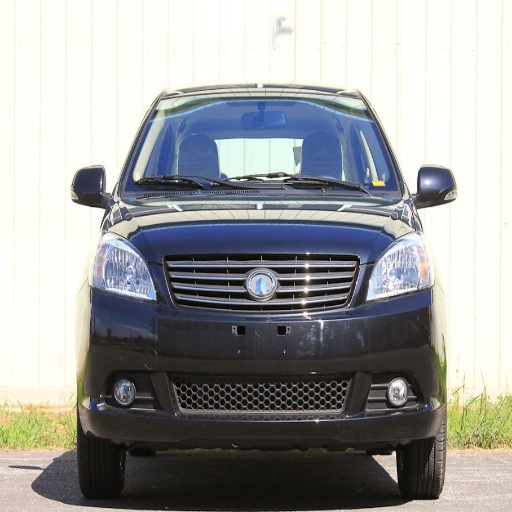front_bumper: (79, 260, 439, 443)
front_right_light: (90, 232, 159, 301)
hood: (111, 182, 411, 310)
left_mirror: (414, 166, 457, 207)
